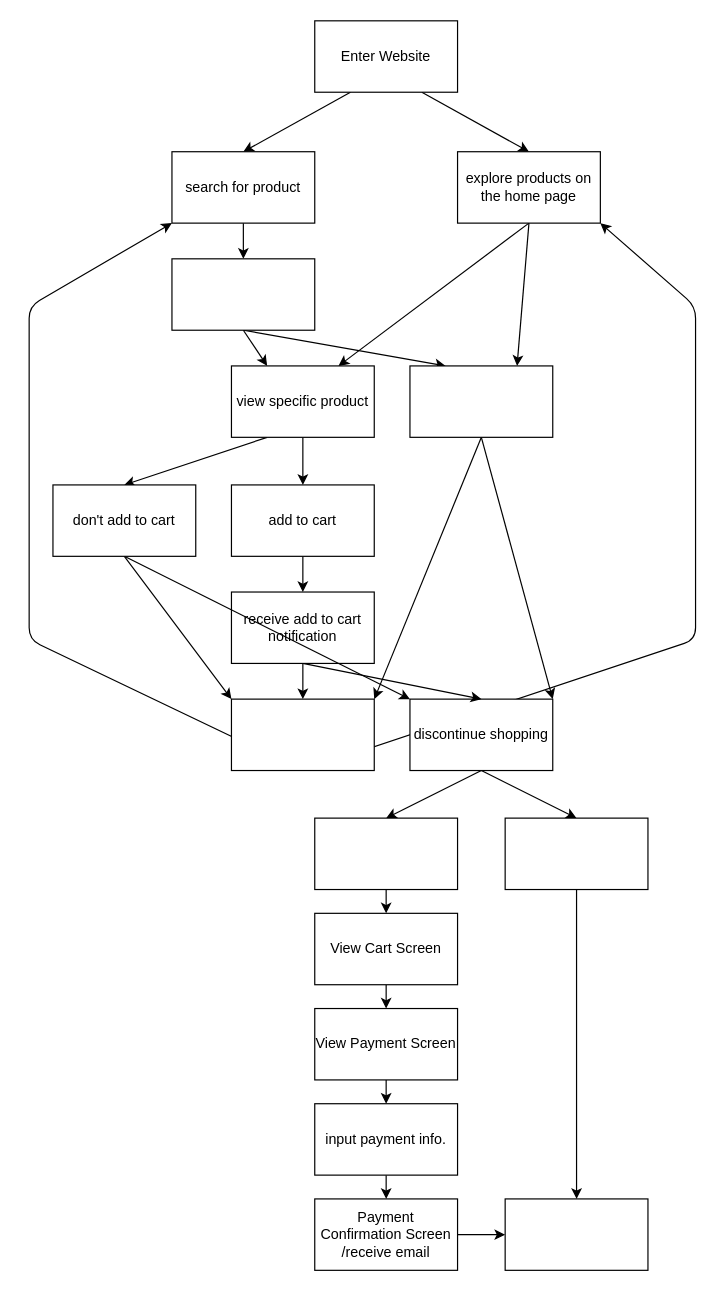
Some shapes in this 726 by 1291 pixel diagram are drawn without their labels. The shapes that lost their labels are listed below. From the top down, each one's centre as x and y in pixels, then its label:
At point 243,294: "user input".
At point 481,401: "Don't view specific product".
At point 302,734: "continue shopping".
At point 386,853: "Checkout".
At point 576,853: "Don't checkout".
At point 576,1234: "Leave Website".
